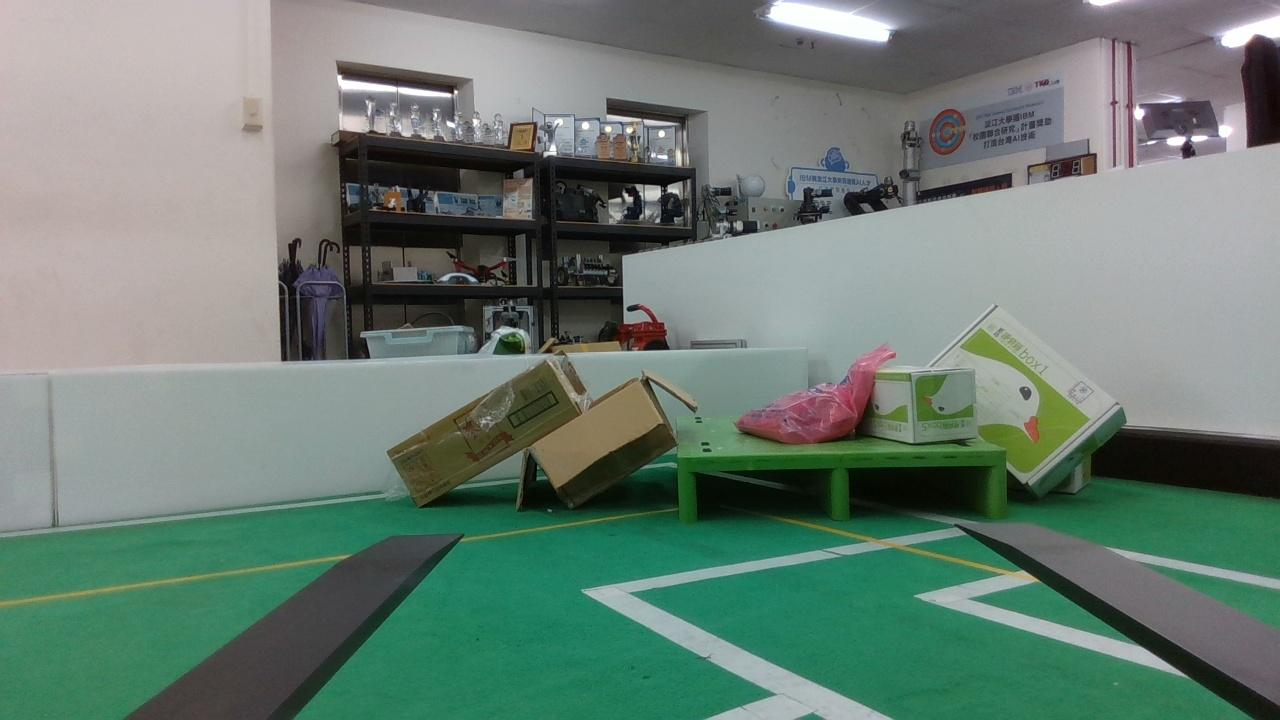Pallet: (674, 450, 1009, 524)
